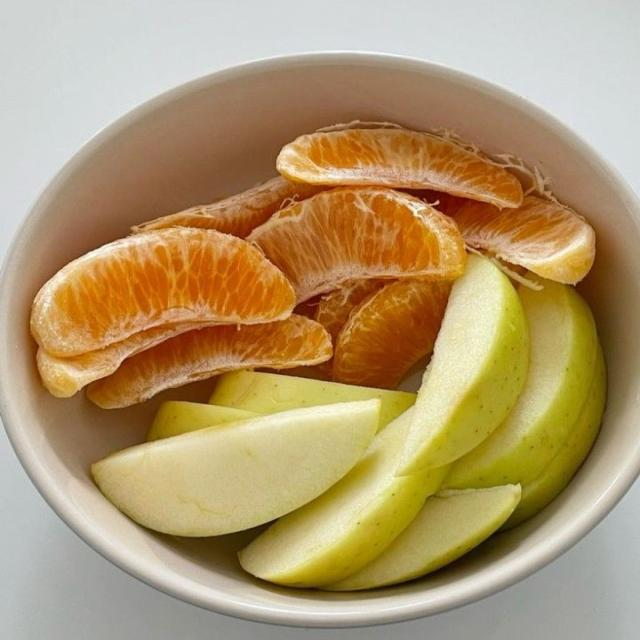apple: (92, 400, 379, 536), (240, 409, 447, 586), (445, 280, 597, 488), (399, 255, 528, 474), (323, 485, 520, 590), (504, 349, 606, 529), (209, 371, 415, 426), (146, 401, 259, 441)
